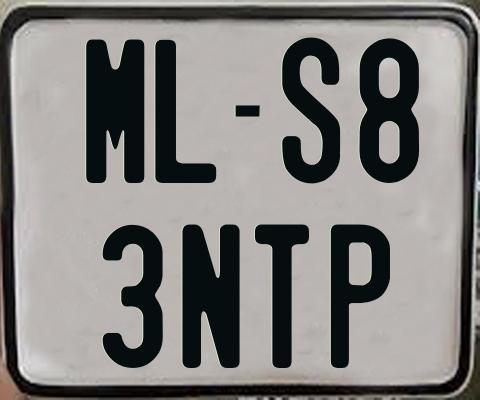3: (103, 223, 164, 371)
8: (356, 38, 417, 183)
L: (154, 39, 221, 184)
M: (85, 37, 145, 186)
N: (179, 223, 242, 368)
P: (328, 222, 393, 368)
S: (279, 36, 338, 188)
T: (254, 223, 310, 368)
